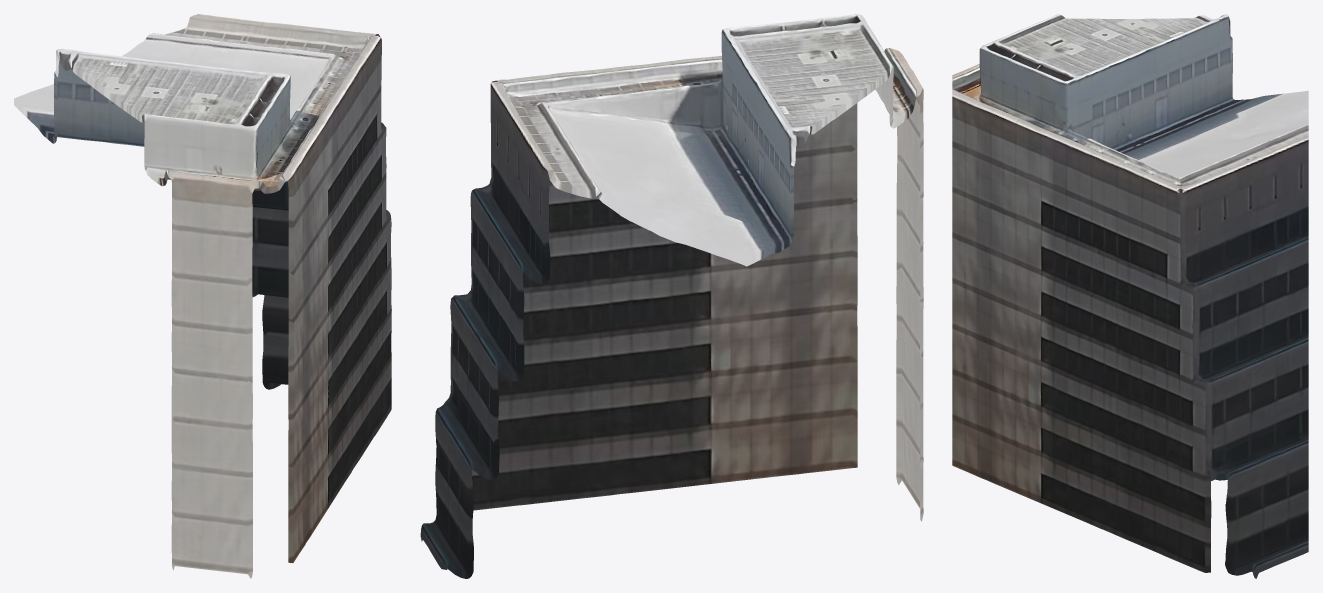
Rendered from z20-167785-405228-h1-yup-uvflip-v3-world.glb.
The picture shows the model from 3 angles, left to right: view 1: azimuth 30°, elevation 25°; view 2: azimuth 150°, elevation 25°; view 3: azimuth 270°, elevation 25°; orthographic projection. The views are drawn at different scales.
Bounding box in the file's own units: 30.16 × 39 × 30.32.
Materials: 1 (1 with a texture image).
